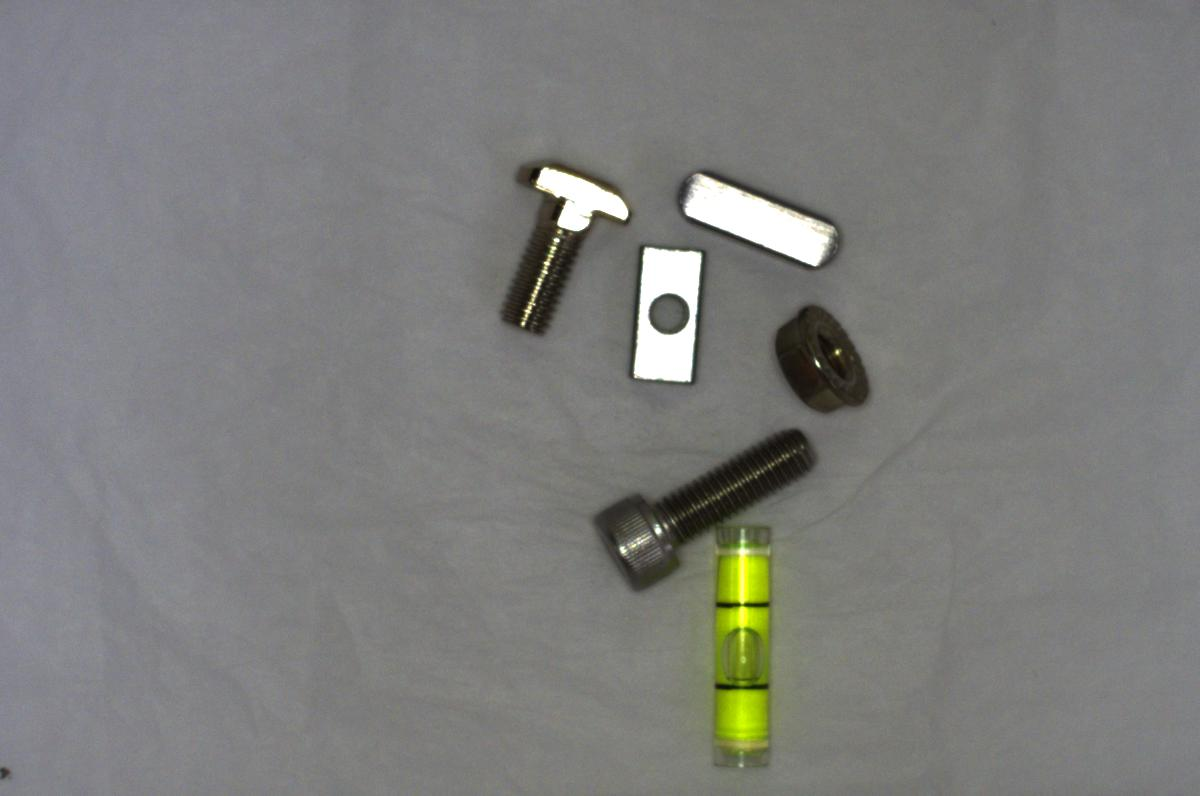Flange nut: (761, 295, 880, 417)
Hexagon screw: (580, 421, 821, 598)
Horizontal bubble: (680, 517, 789, 772)
Keybar: (674, 167, 846, 267)
Rectangular nut: (625, 239, 706, 391)
T-shaped screw: (482, 159, 637, 345)
